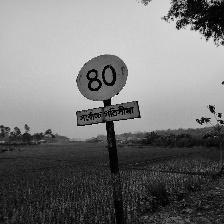Speed-limit: (75, 54, 140, 126)
